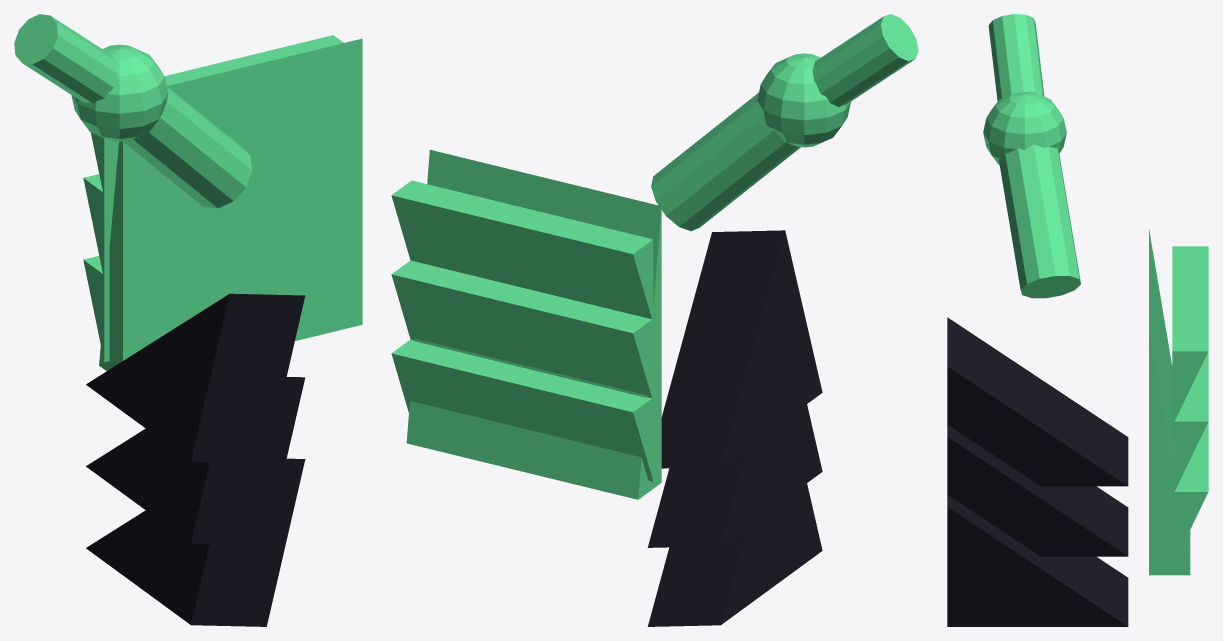
Rendered from WindArmorLeftUpperArm.obj.
3 views of the same model, side by side, from view 1: azimuth 30°, elevation 25°; view 2: azimuth 150°, elevation 25°; view 3: azimuth 270°, elevation 25° (orthographic). The views are drawn at different scales.
Parts seen in each view (by area): view 1: WindArmorLeftUpperArm; view 2: WindArmorLeftUpperArm; view 3: WindArmorLeftUpperArm.
Part boxes in pixels (x1=…): WindArmorLeftUpperArm: x1=14, y1=14, x2=362, y2=626; WindArmorLeftUpperArm: x1=391, y1=14, x2=918, y2=626; WindArmorLeftUpperArm: x1=947, y1=14, x2=1208, y2=626.
Size of the model in its own units: 1.64 by 2.3 by 1.01.
